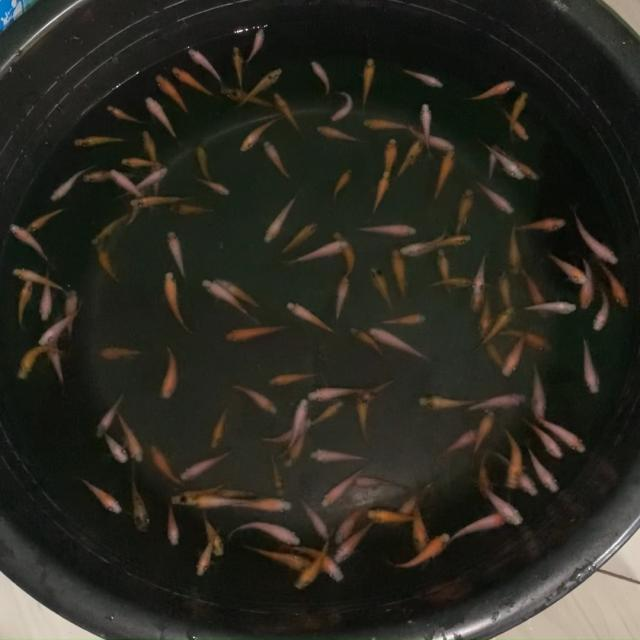nila: (572, 209, 622, 266), (364, 324, 430, 364), (200, 276, 256, 322), (279, 540, 343, 580), (474, 477, 524, 528), (392, 533, 449, 575), (532, 414, 590, 454), (234, 66, 285, 111), (163, 270, 198, 335), (293, 538, 333, 594), (279, 239, 348, 271), (9, 222, 56, 268), (225, 520, 302, 548), (493, 453, 536, 501), (246, 543, 312, 573), (333, 520, 374, 568), (261, 191, 298, 244), (144, 94, 183, 144), (178, 449, 232, 484), (238, 111, 284, 152), (120, 164, 167, 204), (320, 467, 364, 508), (450, 512, 508, 543), (212, 275, 266, 308), (284, 300, 336, 334), (18, 346, 62, 386), (330, 502, 371, 544), (49, 164, 92, 204), (475, 307, 513, 352), (154, 71, 191, 117), (520, 270, 552, 323), (80, 476, 124, 514), (274, 220, 318, 258), (472, 178, 516, 216), (526, 444, 558, 494), (398, 478, 440, 516), (496, 326, 553, 354), (480, 142, 524, 178), (89, 212, 135, 246), (218, 86, 278, 112), (389, 138, 428, 178), (38, 309, 80, 346), (230, 382, 278, 414), (578, 333, 602, 397), (464, 391, 530, 414), (10, 268, 70, 293), (547, 250, 588, 286), (408, 124, 457, 154), (470, 409, 498, 461), (221, 322, 287, 344), (188, 48, 226, 86), (528, 422, 564, 462), (282, 397, 309, 450), (150, 446, 184, 488), (296, 497, 330, 539), (602, 262, 632, 309), (260, 138, 292, 182), (198, 508, 226, 558), (108, 167, 149, 201), (171, 66, 217, 96), (347, 326, 385, 362), (116, 410, 142, 462), (166, 230, 190, 286), (502, 326, 530, 374), (330, 231, 359, 277), (410, 484, 429, 554), (274, 90, 304, 134), (502, 148, 542, 181), (502, 426, 522, 492), (462, 78, 516, 102), (96, 393, 125, 437), (196, 528, 221, 578), (432, 150, 456, 202), (170, 483, 224, 506), (520, 296, 581, 316), (129, 477, 150, 535), (445, 426, 483, 458), (370, 267, 397, 312), (160, 343, 180, 402), (455, 183, 474, 244), (398, 66, 446, 90), (96, 240, 122, 284), (499, 107, 532, 141), (356, 376, 396, 404), (390, 246, 409, 304), (509, 214, 567, 233), (314, 122, 364, 144), (400, 230, 444, 255), (27, 205, 67, 232), (266, 419, 312, 442), (228, 498, 294, 514), (352, 396, 374, 444), (530, 358, 546, 424), (414, 394, 480, 410), (37, 266, 55, 324), (97, 431, 128, 464), (508, 90, 528, 141), (46, 340, 68, 386), (210, 404, 232, 450), (369, 170, 392, 214), (80, 168, 142, 184), (332, 274, 352, 323), (267, 368, 321, 386), (578, 258, 596, 312), (310, 398, 344, 426), (422, 231, 469, 251), (592, 285, 612, 332), (309, 59, 333, 98), (368, 508, 420, 526), (474, 452, 492, 504), (184, 494, 246, 509), (128, 194, 194, 208), (190, 176, 232, 198), (378, 311, 432, 328), (64, 288, 81, 341), (506, 226, 524, 276), (304, 386, 368, 400), (308, 450, 370, 464), (328, 89, 354, 122), (105, 104, 144, 126), (284, 431, 307, 468), (200, 484, 256, 499), (332, 166, 355, 202), (94, 346, 145, 362), (360, 54, 375, 108), (419, 103, 434, 157), (362, 118, 412, 134), (70, 134, 127, 148), (484, 336, 506, 372), (18, 279, 34, 328), (230, 44, 247, 90), (351, 223, 421, 234), (437, 252, 455, 294), (378, 136, 399, 172), (477, 291, 492, 341), (352, 476, 405, 490), (164, 500, 180, 546), (497, 268, 513, 314), (247, 28, 266, 66), (194, 146, 214, 182), (472, 254, 490, 294), (166, 202, 214, 216), (268, 460, 286, 494), (426, 276, 474, 288), (408, 242, 441, 259), (140, 129, 158, 160), (127, 196, 143, 230), (150, 163, 163, 204), (486, 141, 499, 181), (121, 156, 164, 168), (469, 286, 484, 313)
